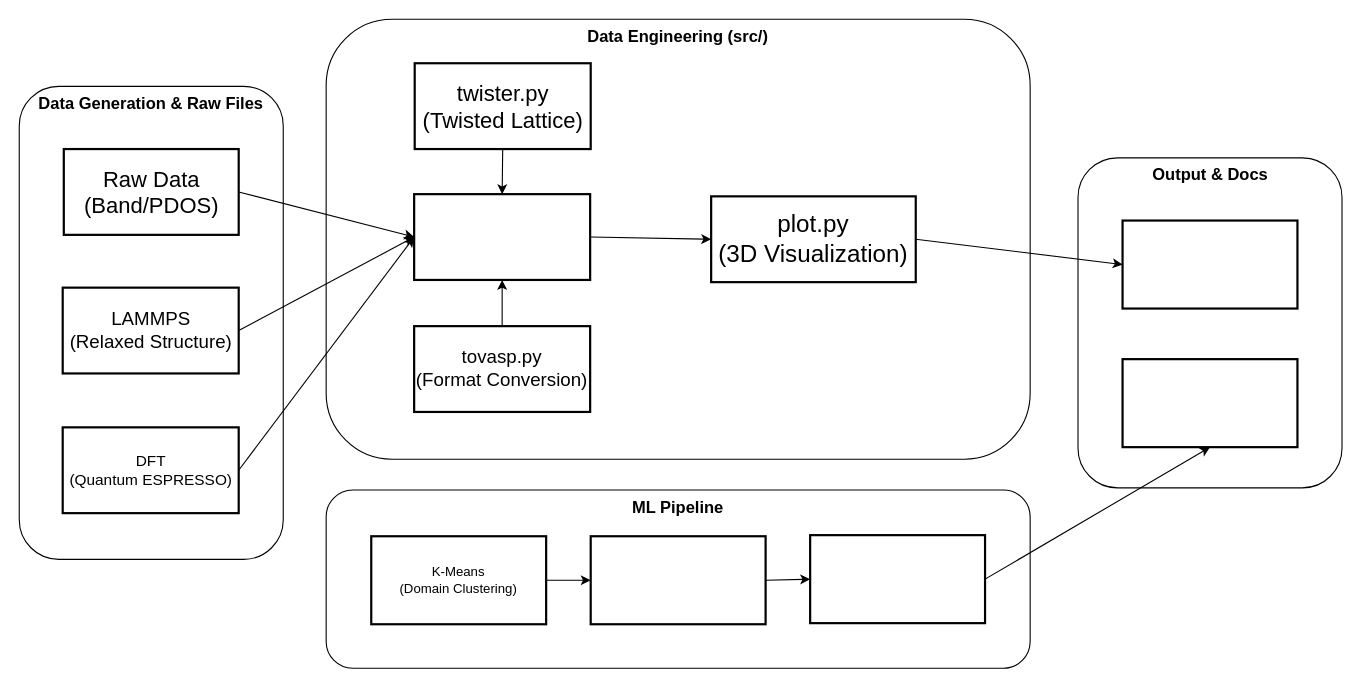
Image size: 1362x688. Some labels were removed from this diagram. The centre of each missing label's shape, as x and y in pixels:
"Domain_Classification.ipynb" belongs at point (1209, 403).
"Evaluation (Accuracy > 90%)" belongs at point (897, 579).
"funcs.py (Feature Extraction)" belongs at point (502, 236).
"Random Forest (Classification)" belongs at point (677, 580).
"README.md & Poster" belongs at point (1209, 264).
